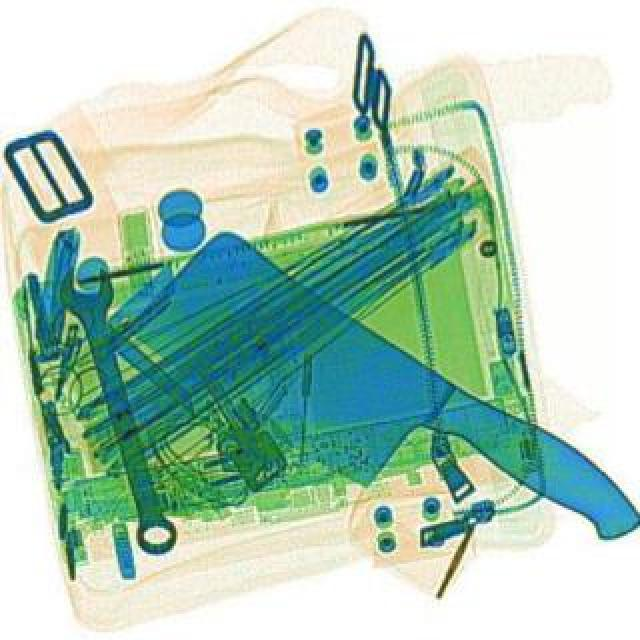knife: (136, 222, 638, 610)
scissors: (52, 258, 184, 558)
